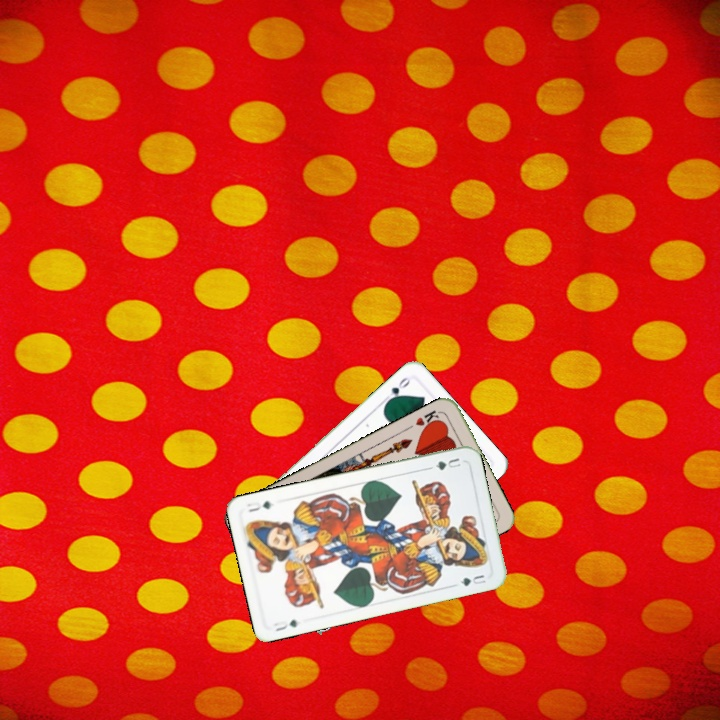GO: (382, 373, 414, 406)
GU: (431, 454, 463, 473), (270, 615, 301, 634)
HK: (412, 406, 443, 432)
